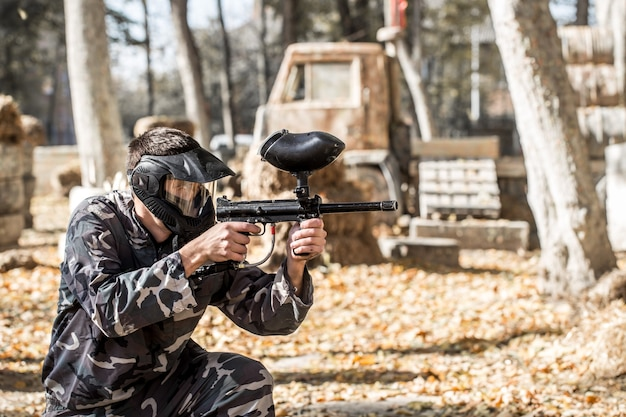gun: (213, 130, 400, 269)
